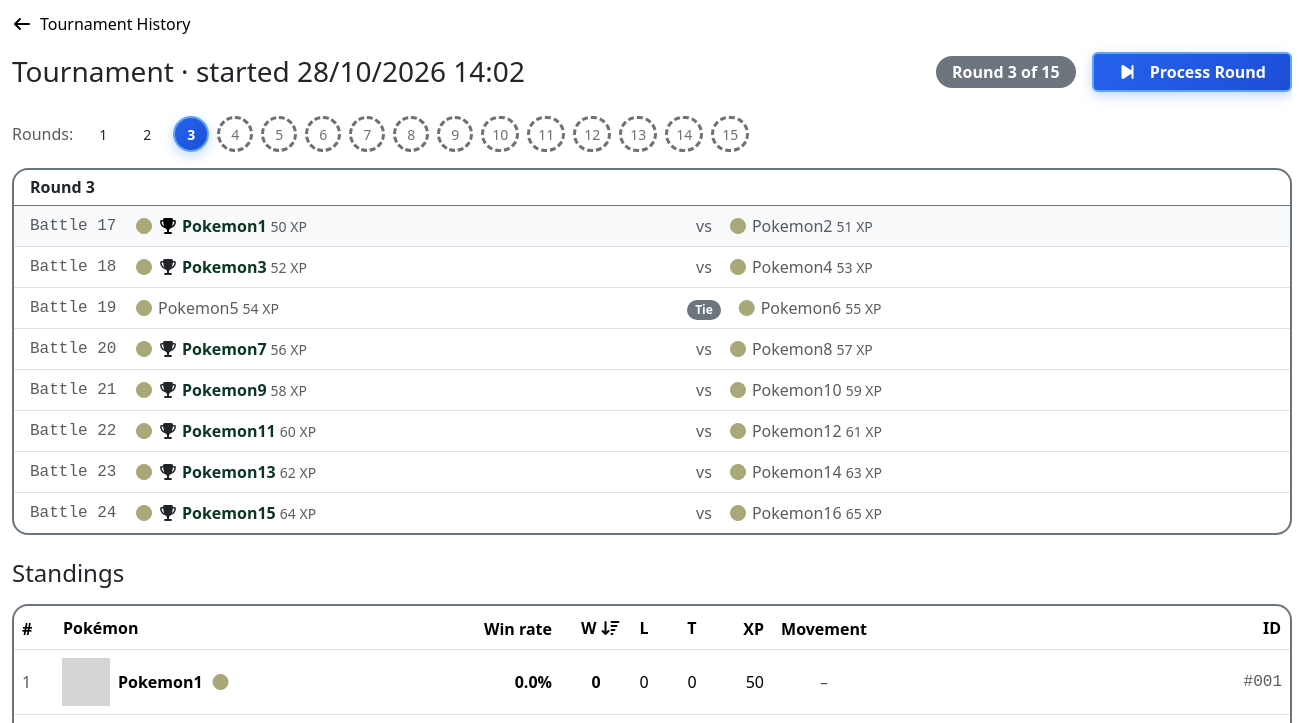
Test: RoundByRoundTournamentComponent › should show that the Tournament no longer exists when the Battle answers 404
Click the button with class "battle-row" that starts with "Battle 17" at point(73, 226), box [14, 206, 1290, 247]
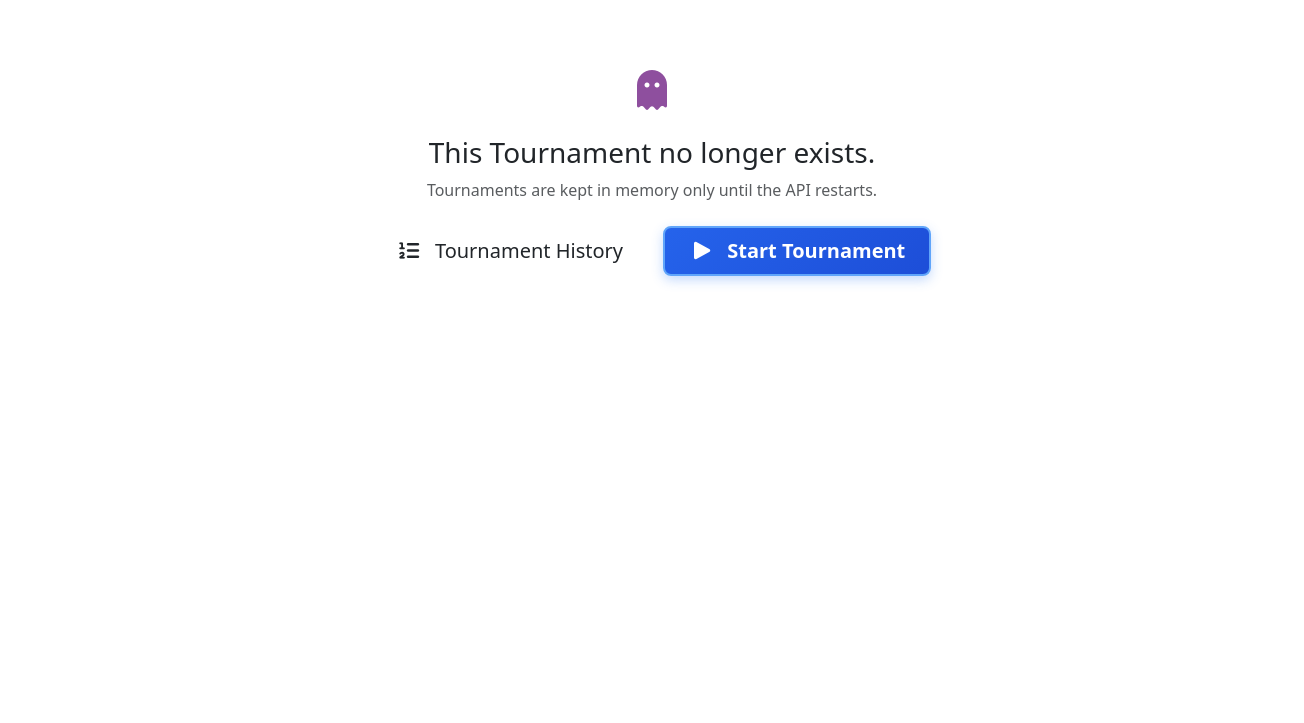
Now the text "This Tournament no longer exists." is shown, box [429, 133, 875, 171]
